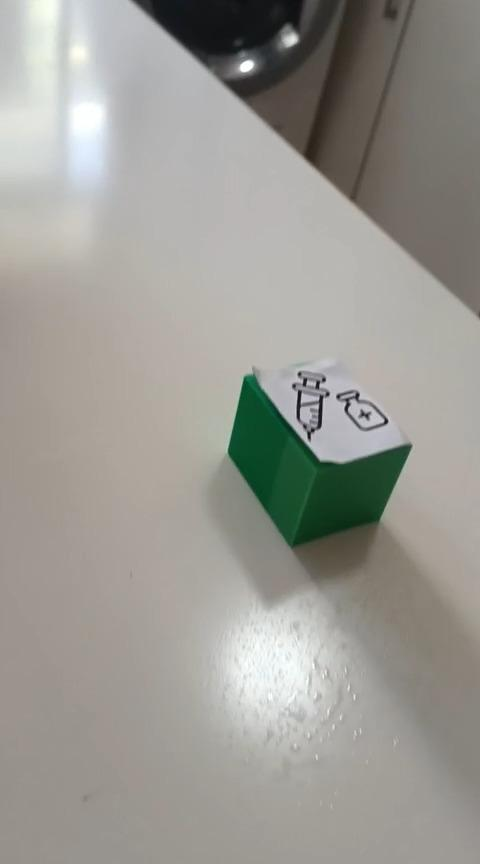antiseptic cream: (226, 354, 413, 548)
